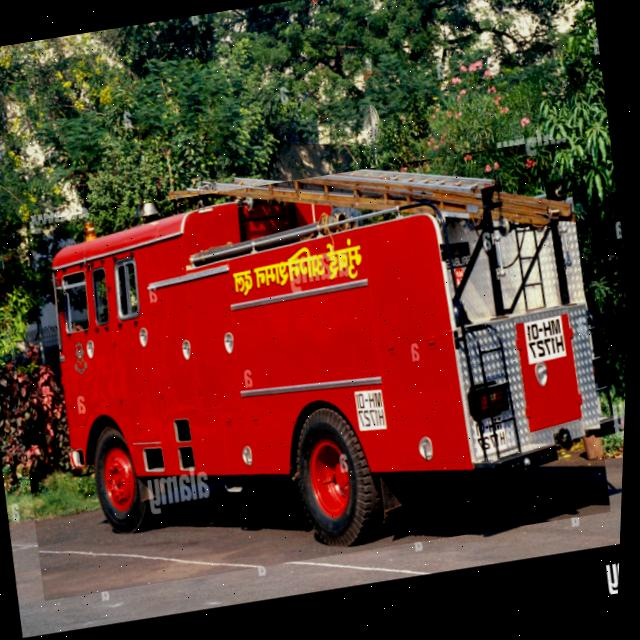Fire Truck: (0, 138, 625, 601)
